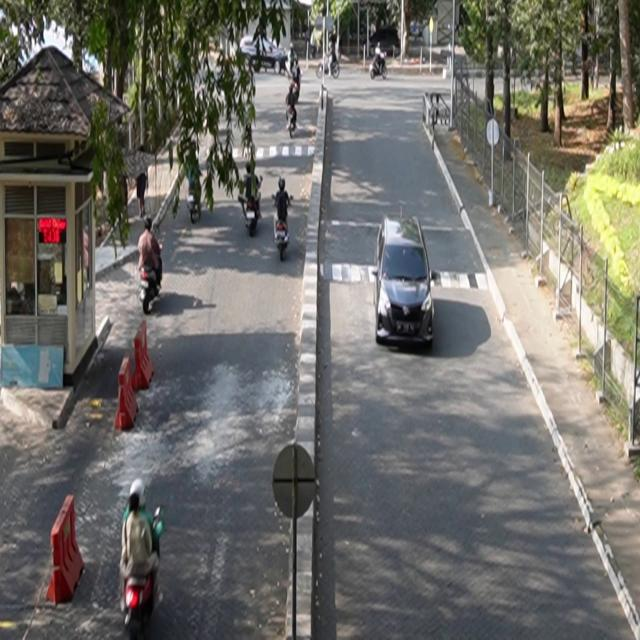car: (372, 214, 436, 348), (239, 35, 289, 75)
